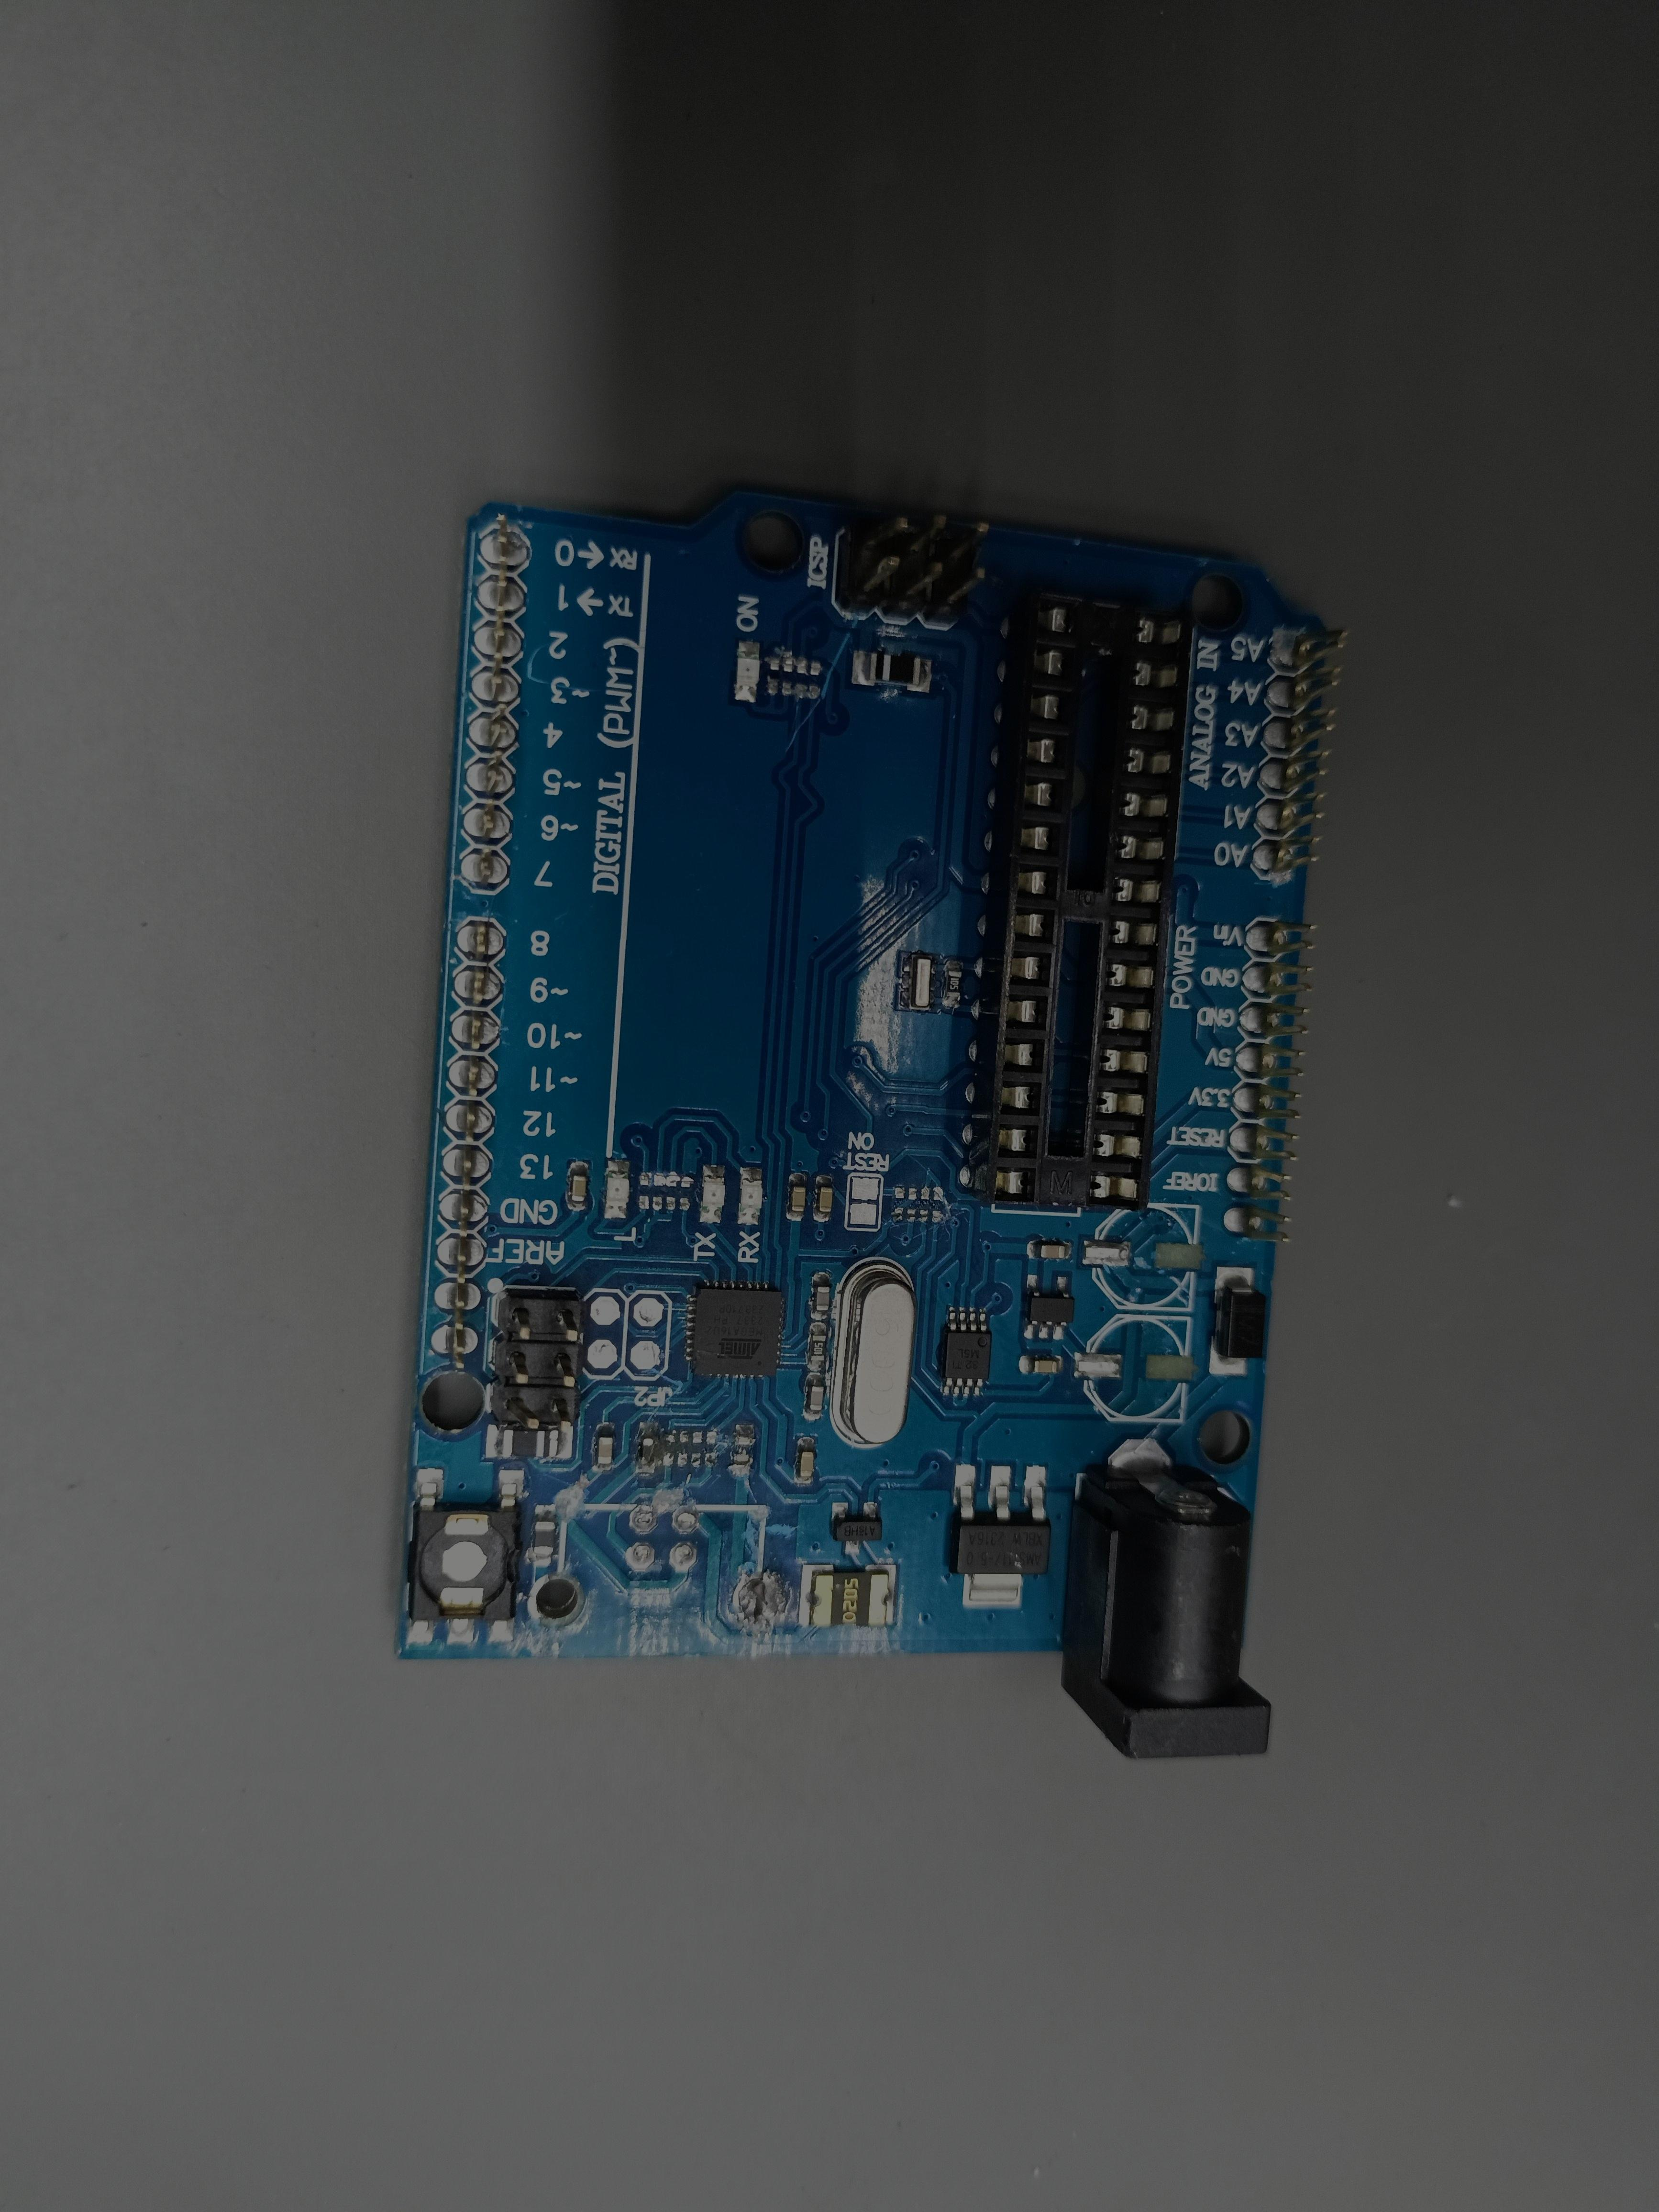Arduino board: (394, 489, 1349, 1757)
